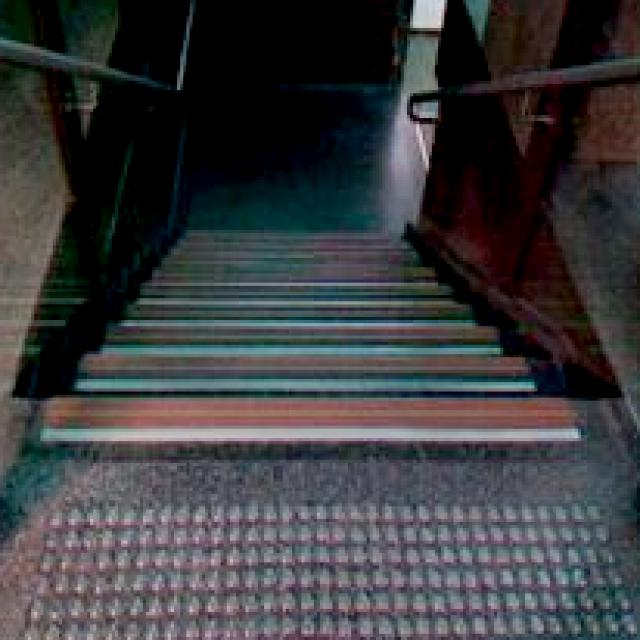downstair: (32, 290, 588, 479)
